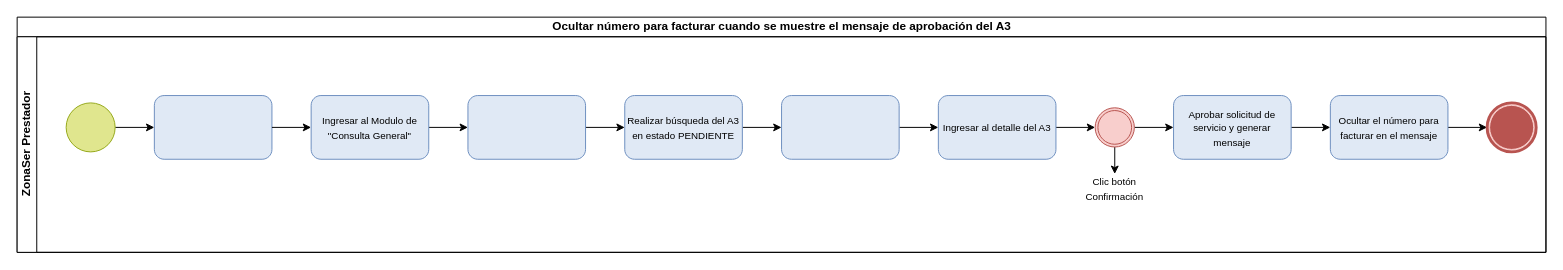
Some shapes in this 1563 by 270 pixel diagram are drawn without their labels. The shapes that lost their labels are listed below. From the top down, each one's centre as x and y in pixels, then its label:
(x=212, y=127): Ingresar a ZonaSer Prestador
(x=526, y=127): Escoger en Tipo de Consulta "Solicitud de Servicio de Salud"
(x=840, y=127): Ingresar al detalle de la solicitud A3
